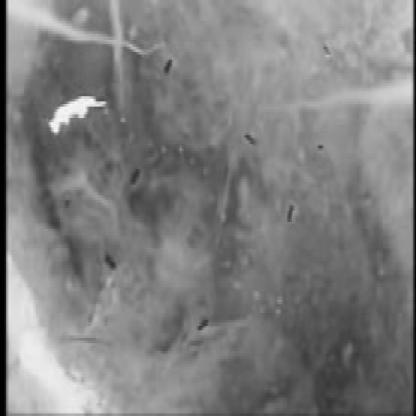rehkitze: (51, 95, 108, 136)
